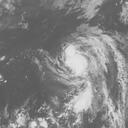cyclone: (52, 24, 126, 117)
